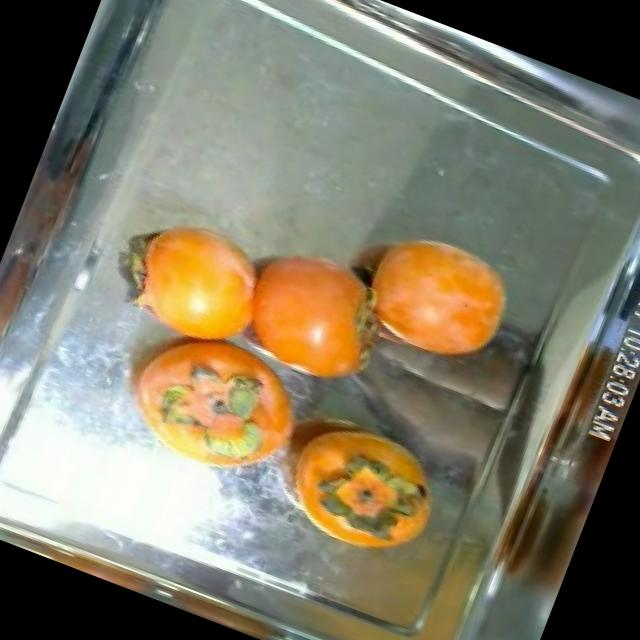Fruit: (202, 212, 416, 400), (92, 190, 288, 374), (340, 208, 535, 381), (323, 340, 522, 498), (300, 441, 456, 574)
